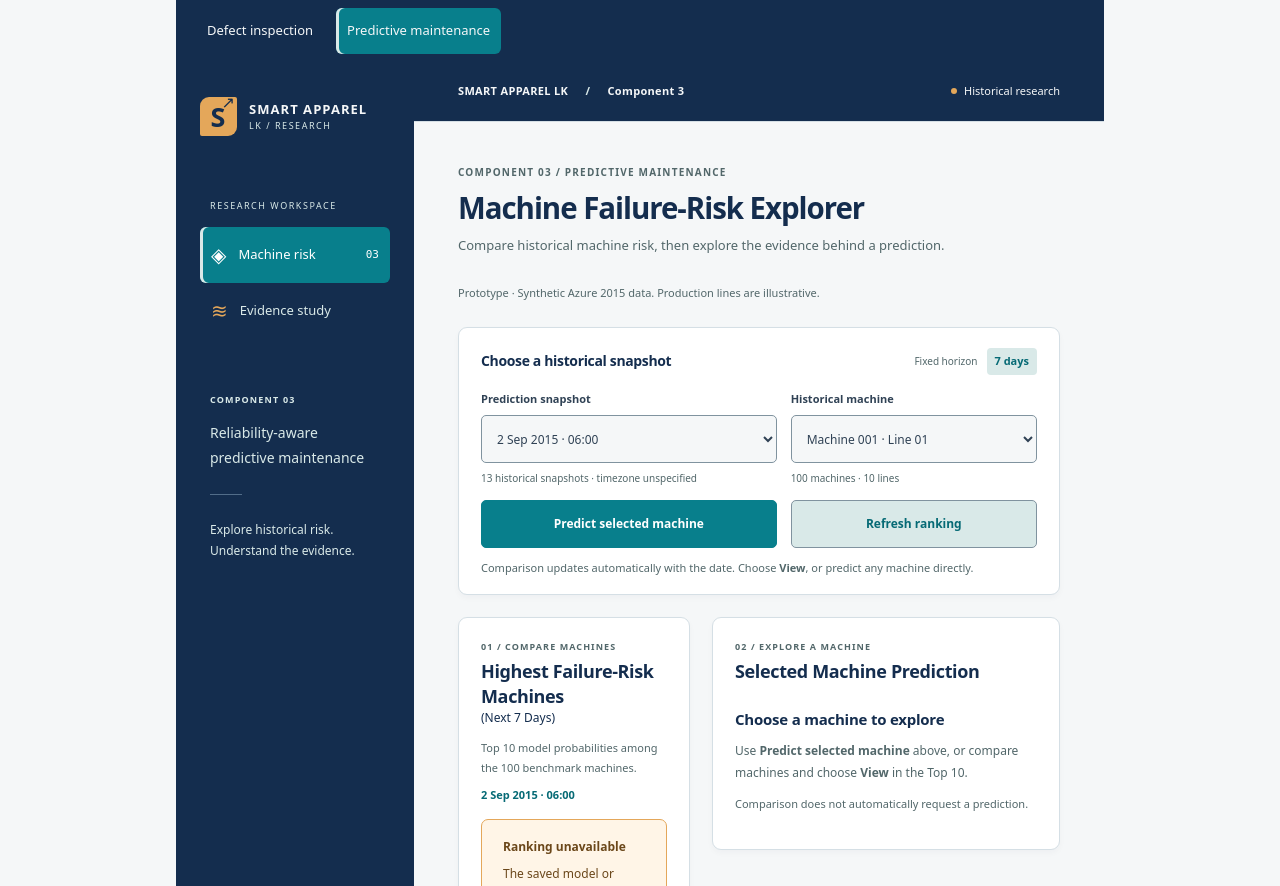
machine-risk dashboard presentation and workflow › supports direct prediction even if automatic ranking fails
Expected: the message shows "Ranking unavailable", x1=503 y1=838 x2=626 y2=855
Select "Machine 099 · Line 10" in the dropdown labelled "Historical machine" at (914, 439), box x1=791 y1=415 x2=1037 y2=463
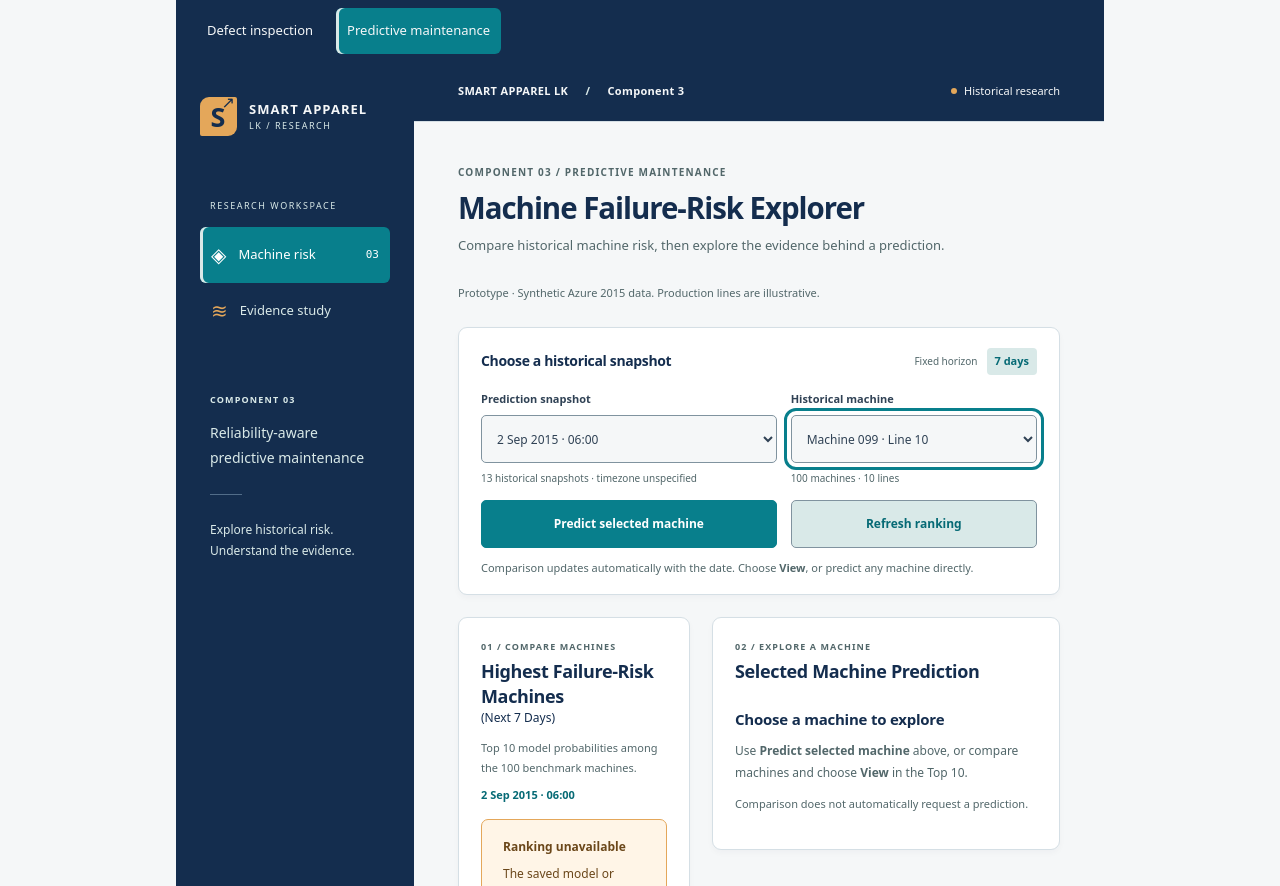
Click the button "Predict selected machine" at (629, 524), box x1=481 y1=500 x2=777 y2=548
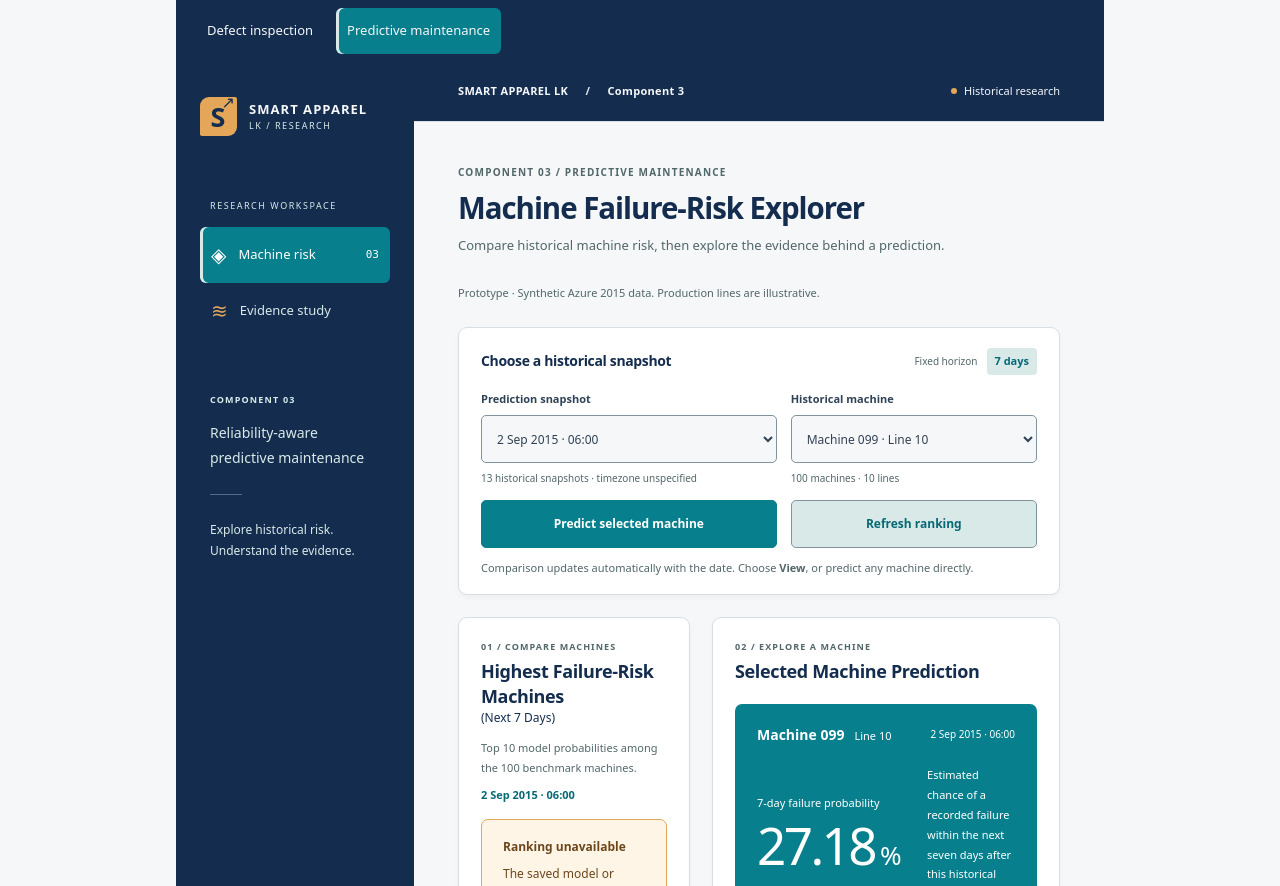
Expected: the element with test id "failure-probability" reads "27.18%", x1=757 y1=816 x2=899 y2=875
